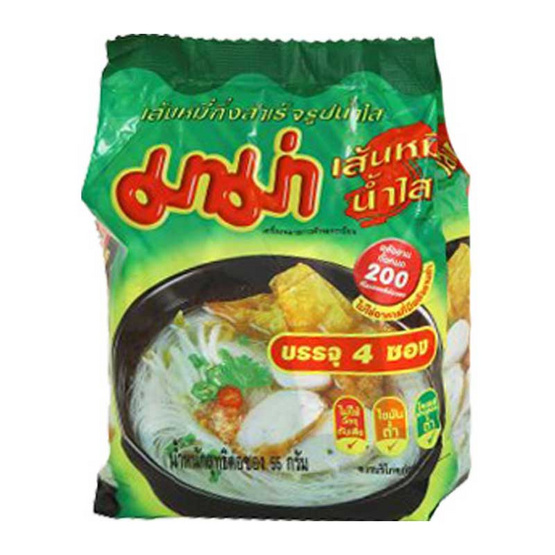Snack: (77, 26, 484, 531)
